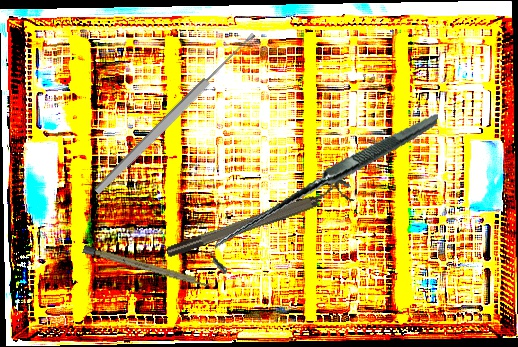Fixation Ring: (161, 176, 356, 261)
Hook Surgical: (210, 80, 439, 306)
Scalpel Handle: (82, 244, 212, 290)
Surgical Spoon: (92, 30, 259, 197)
